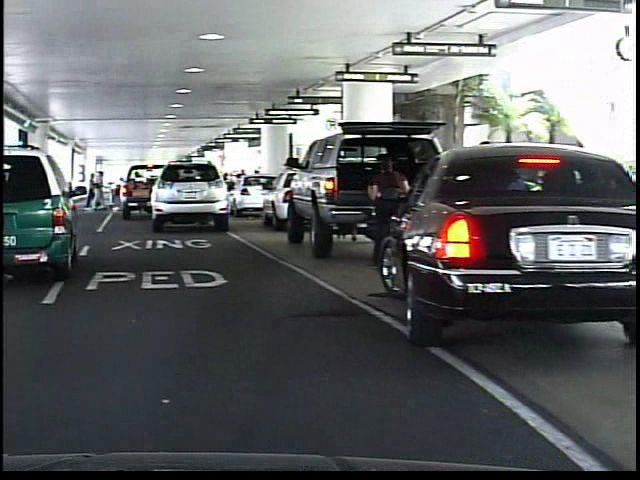person: (362, 151, 413, 263)
